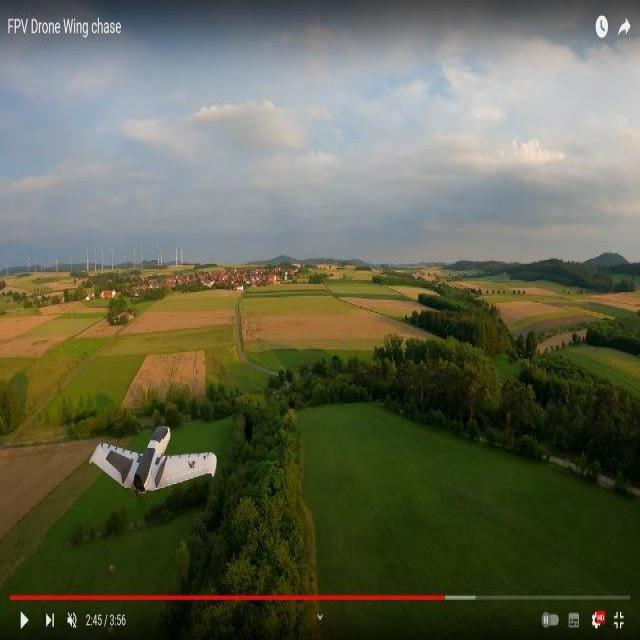iha: (133, 418, 187, 470)
